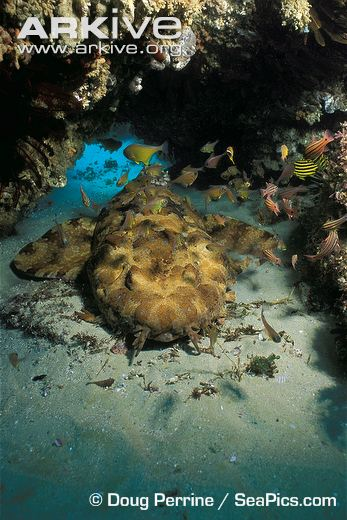shark: (16, 121, 307, 347)
